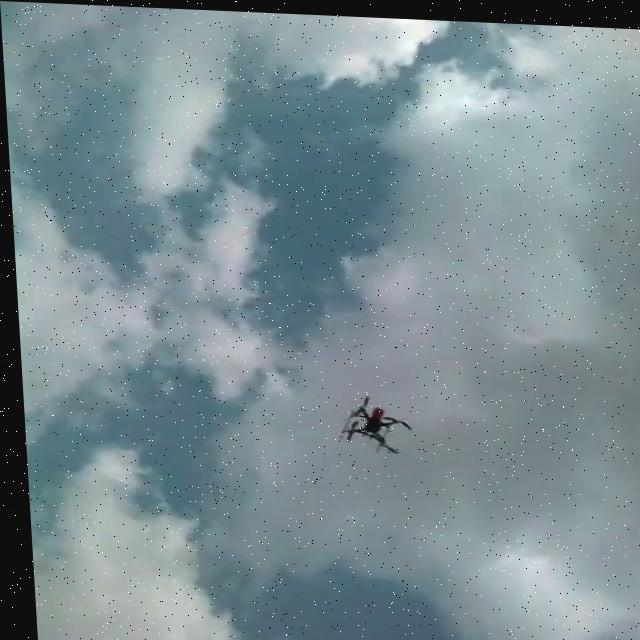drone: (335, 387, 413, 452)
